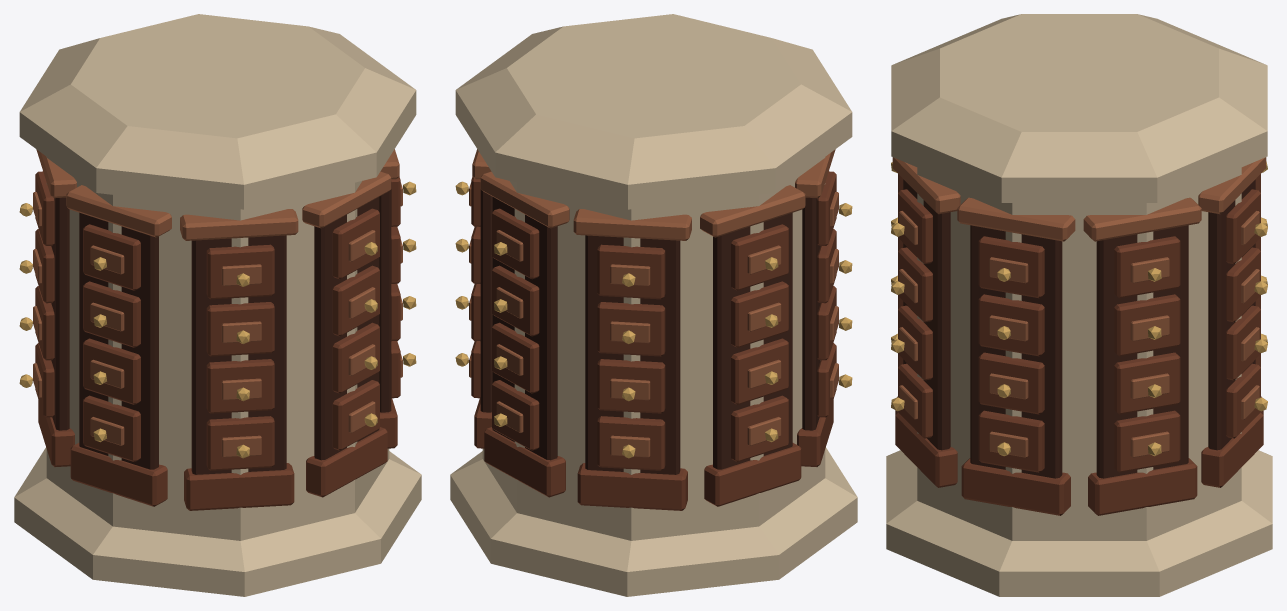
File: records_pillar.glb
The picture shows the model from 3 angles, left to right: view 1: azimuth 30°, elevation 25°; view 2: azimuth 150°, elevation 25°; view 3: azimuth 270°, elevation 25°; orthographic projection.
Visible parts, largest first — view 1: Stone, Drawers_7, Drawers_6, Drawers_0, Drawers_7_Body, Drawers_6_Body, Drawers_0_Body, Drawers_5, Drawers_7_Plinth, Drawers_5_Body, Drawers_6_Plinth, Drawers_0_Plinth (+8 smaller); view 2: Stone, Drawers_4, Drawers_5, Drawers_3, Drawers_4_Body, Drawers_5_Body, Drawers_3_Body, Drawers_6, Drawers_4_Plinth, Drawers_6_Body, Drawers_5_Plinth, Drawers_3_Plinth (+8 smaller); view 3: Stone, Drawers_1, Drawers_2, Drawers_1_Body, Drawers_2_Body, Drawers_0, Drawers_3, Drawers_0_Body, Drawers_3_Body, Drawers_1_Plinth, Drawers_2_Plinth, Drawers_1_Top (+5 smaller).
Part boxes in pixels (x1,y1,x2,y2): Stone: (14, 14, 421, 596); Drawers_7: (206, 244, 274, 470); Drawers_6: (83, 224, 140, 461); Drawers_0: (332, 208, 379, 450); Drawers_7_Body: (191, 235, 286, 474); Drawers_6_Body: (79, 212, 158, 469); Drawers_0_Body: (314, 197, 379, 460); Drawers_5: (19, 171, 54, 417); Drawers_7_Plinth: (184, 463, 294, 510); Drawers_5_Body: (51, 197, 69, 430); Drawers_6_Plinth: (70, 443, 167, 506); Drawers_0_Plinth: (306, 427, 387, 497); Stone: (450, 14, 857, 596); Drawers_4: (597, 244, 665, 470); Drawers_5: (731, 224, 788, 461); Drawers_3: (492, 208, 539, 450); Drawers_4_Body: (585, 235, 680, 474); Drawers_5_Body: (713, 212, 792, 469); Drawers_3_Body: (492, 197, 557, 460); Drawers_6: (817, 171, 852, 417); Drawers_4_Plinth: (577, 463, 687, 510); Drawers_6_Body: (802, 197, 820, 430); Drawers_5_Plinth: (704, 443, 801, 506); Drawers_3_Plinth: (484, 427, 565, 497); Stone: (886, 14, 1272, 596); Drawers_1: (978, 236, 1044, 472); Drawers_2: (1114, 236, 1180, 472); Drawers_1_Body: (970, 225, 1062, 478); Drawers_2_Body: (1096, 225, 1188, 478); Drawers_0: (891, 189, 932, 438); Drawers_3: (1226, 189, 1267, 438); Drawers_0_Body: (903, 179, 950, 450); Drawers_3_Body: (1208, 179, 1255, 450); Drawers_1_Plinth: (961, 458, 1070, 515); Drawers_2_Plinth: (1088, 458, 1197, 515); Drawers_1_Top: (957, 197, 1075, 241).
Size of the model in its own units: 1.39 by 1.75 by 1.39.
